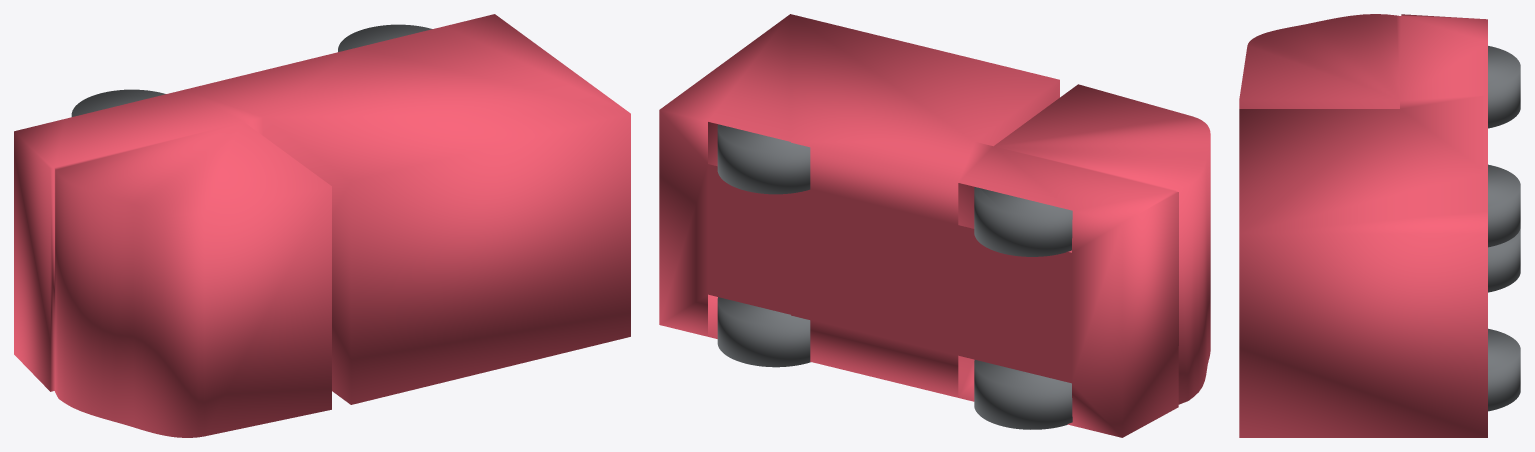
File: firetruck.fbx
3 renders of one model, left to right at view 1: azimuth 30°, elevation 25°; view 2: azimuth 150°, elevation 25°; view 3: azimuth 270°, elevation 25°, orthographic. The views are drawn at different scales.
Visible parts, largest first — view 1: group_15277357, group_2829873; view 2: group_15277357, group_2829873; view 3: group_15277357, group_2829873.
Part boxes in pixels (box(x1,y1,x2,y2)): group_15277357: box(14, 14, 630, 437); group_2829873: box(71, 24, 432, 116); group_15277357: box(659, 14, 1210, 437); group_2829873: box(717, 124, 1072, 429); group_15277357: box(1239, 14, 1487, 437); group_2829873: box(1488, 46, 1520, 411).
Size of the model in its own units: 259 by 112 by 140.
